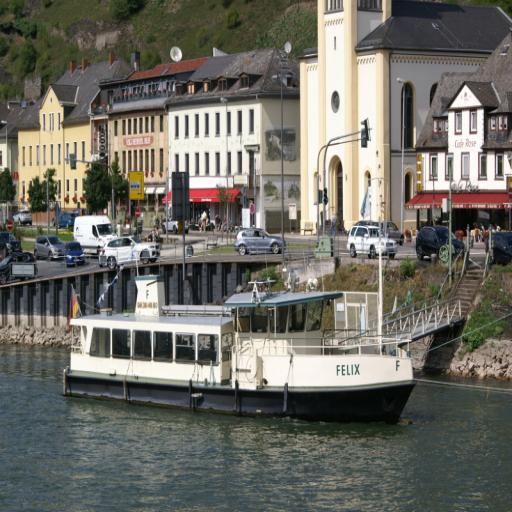tugboat: (61, 258, 420, 435)
